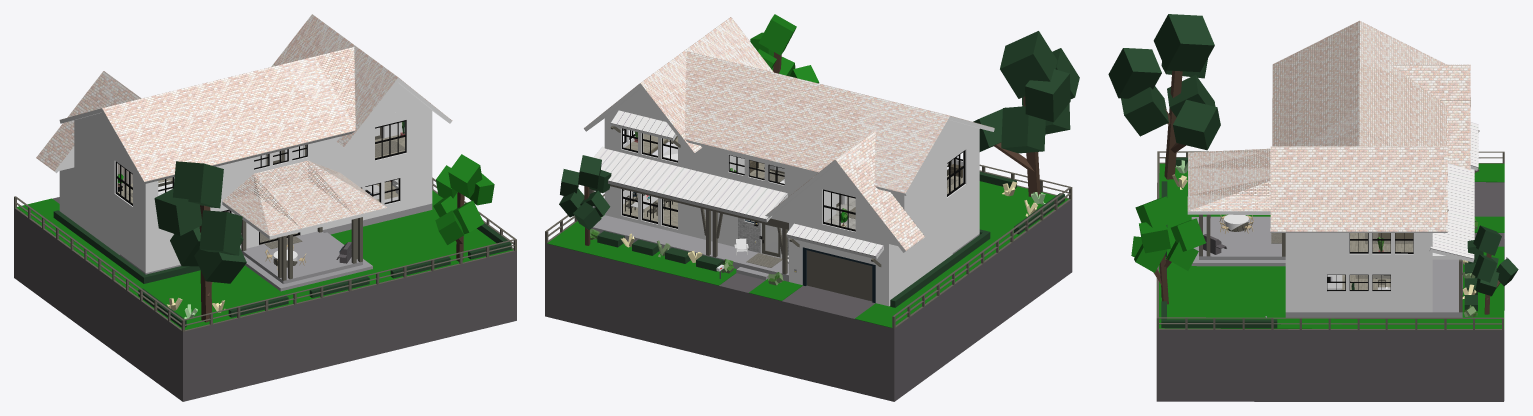
File: roblox_house.glb
The picture shows the model from 3 angles, left to right: view 1: azimuth 30°, elevation 25°; view 2: azimuth 150°, elevation 25°; view 3: azimuth 270°, elevation 25°; orthographic projection. The views are drawn at different scales.
Visible parts, largest first — view 1: brookhaven house; view 2: brookhaven house; view 3: brookhaven house.
Part boxes in pixels (left/top/right/bottom): brookhaven house: left=14, top=14, right=516, bottom=401; brookhaven house: left=545, top=14, right=1079, bottom=401; brookhaven house: left=1108, top=14, right=1518, bottom=401.
Size of the model in its own units: 107 by 68.5 by 109.
97 materials, 32 textured.
